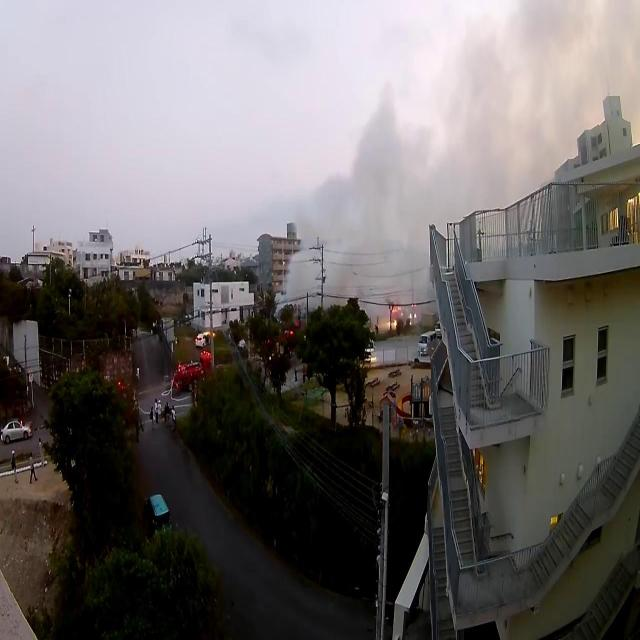Fire: (392, 302, 402, 314)
